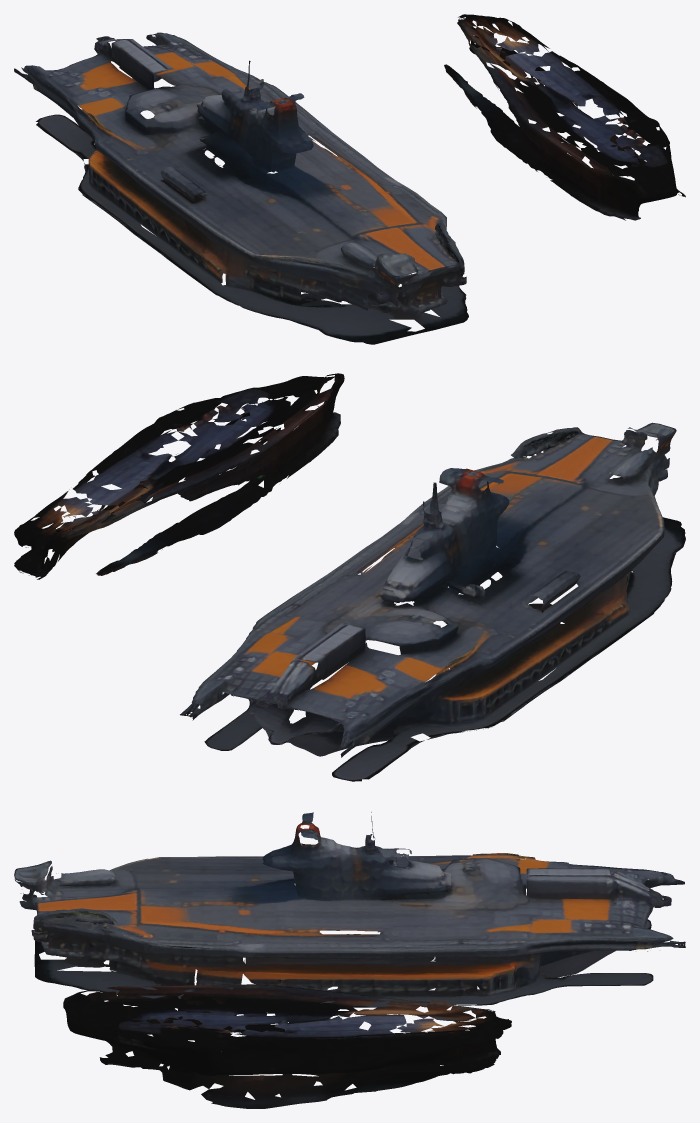
The model's file is prop_flagship.glb.
3 views of the same model, one above another, from view 1: azimuth 30°, elevation 25°; view 2: azimuth 150°, elevation 25°; view 3: azimuth 270°, elevation 25° (orthographic). The views are drawn at different scales.
Parts seen in each view (by area): view 1: geometry_0.539; view 2: geometry_0.539; view 3: geometry_0.539.
Boxes of the visible parts, box(x1,y1,x2,y2) form: geometry_0.539: box(14, 14, 685, 344); geometry_0.539: box(14, 373, 685, 781); geometry_0.539: box(14, 812, 685, 1108).
Bounding box in the file's own units: 0.7502 × 0.2708 × 1.
Materials: 1 (1 with a texture image).
